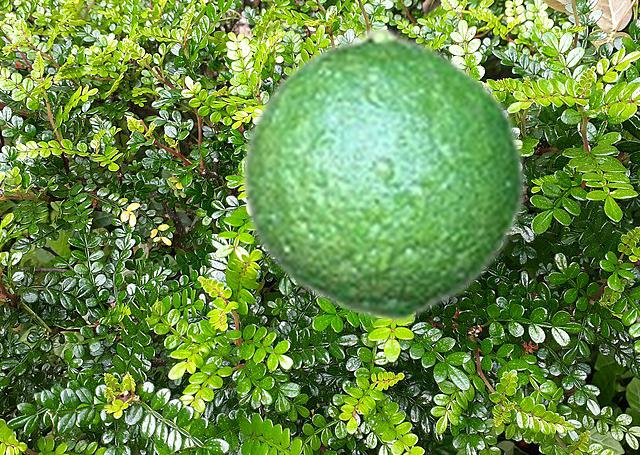dalandan: (238, 24, 526, 322)
